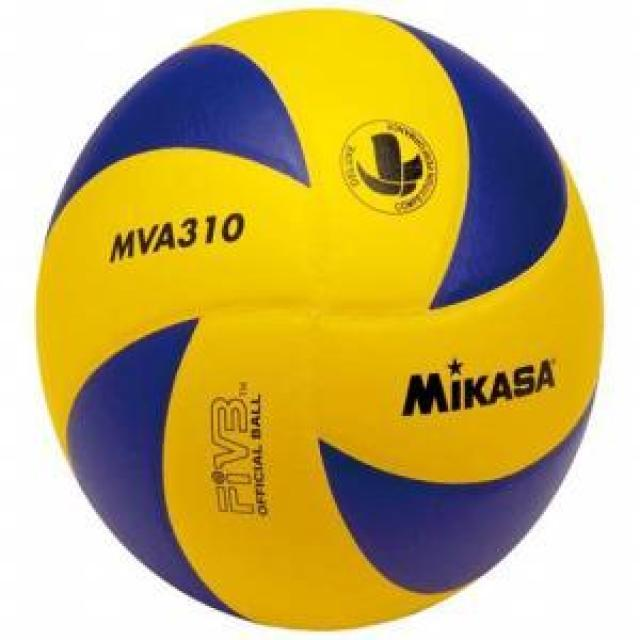volleyball: (36, 8, 602, 630)
